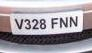2: (31, 18, 39, 30)
3: (24, 18, 31, 30)
8: (39, 18, 47, 30)
F: (51, 17, 59, 30)
N: (69, 15, 78, 28), (59, 17, 68, 29)
V: (14, 18, 24, 30)
